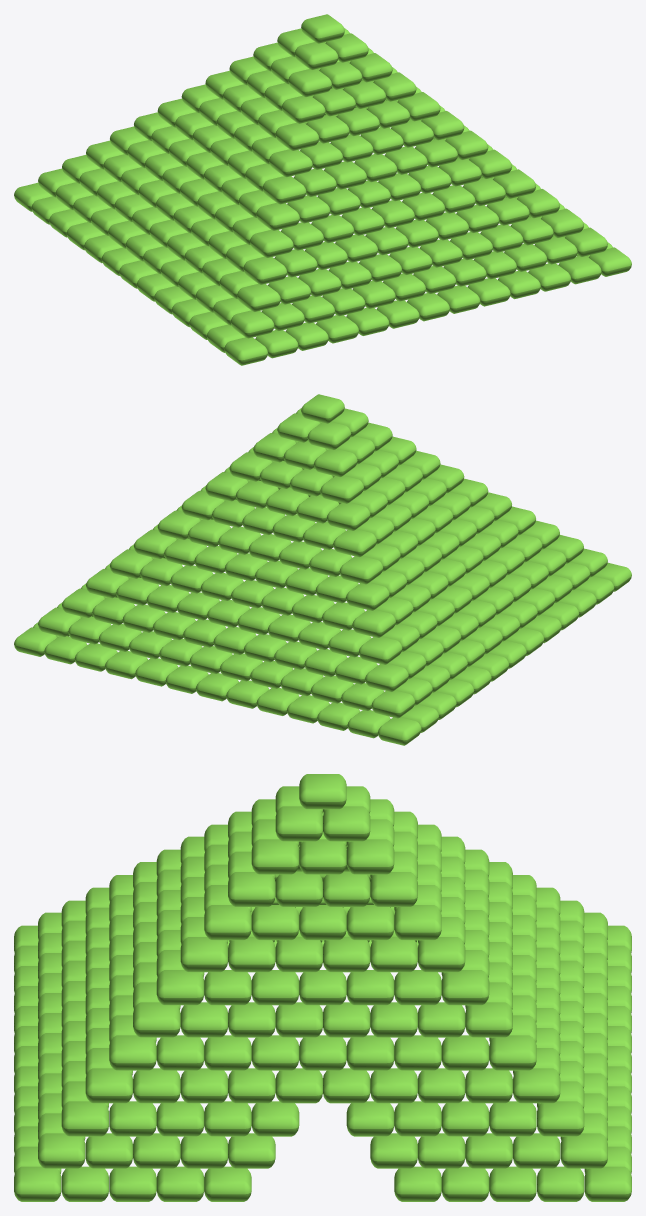
The model's file is Gum Pyramid.obj.
The picture shows the model from 3 angles, top to bottom: view 1: azimuth 30°, elevation 25°; view 2: azimuth 150°, elevation 25°; view 3: azimuth 270°, elevation 25°; orthographic projection. The views are drawn at different scales.
Visible parts, largest first — view 1: Gum_Pyramid; view 2: Gum_Pyramid; view 3: Gum_Pyramid.
Boxes of the visible parts, bbox=[...] form: Gum_Pyramid: bbox=[14, 14, 631, 365]; Gum_Pyramid: bbox=[14, 394, 631, 745]; Gum_Pyramid: bbox=[14, 774, 631, 1201].
Bounding box in the file's own units: 94.14 × 49.39 × 94.24.
